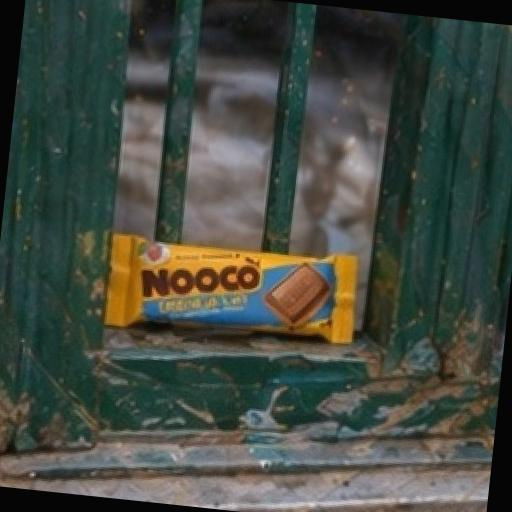nooco: (39, 156, 432, 422)
